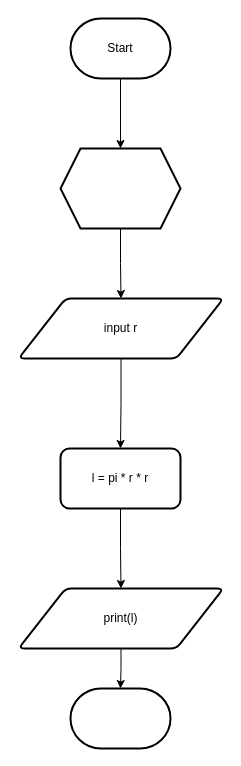
This 241x766 diagram has some shape labels left out. The centre of each missing label's shape, as x and y in pixels:
"End" goes at pixel 120 718.
"float pi = 3.14 float r, l" goes at pixel 120 188.
